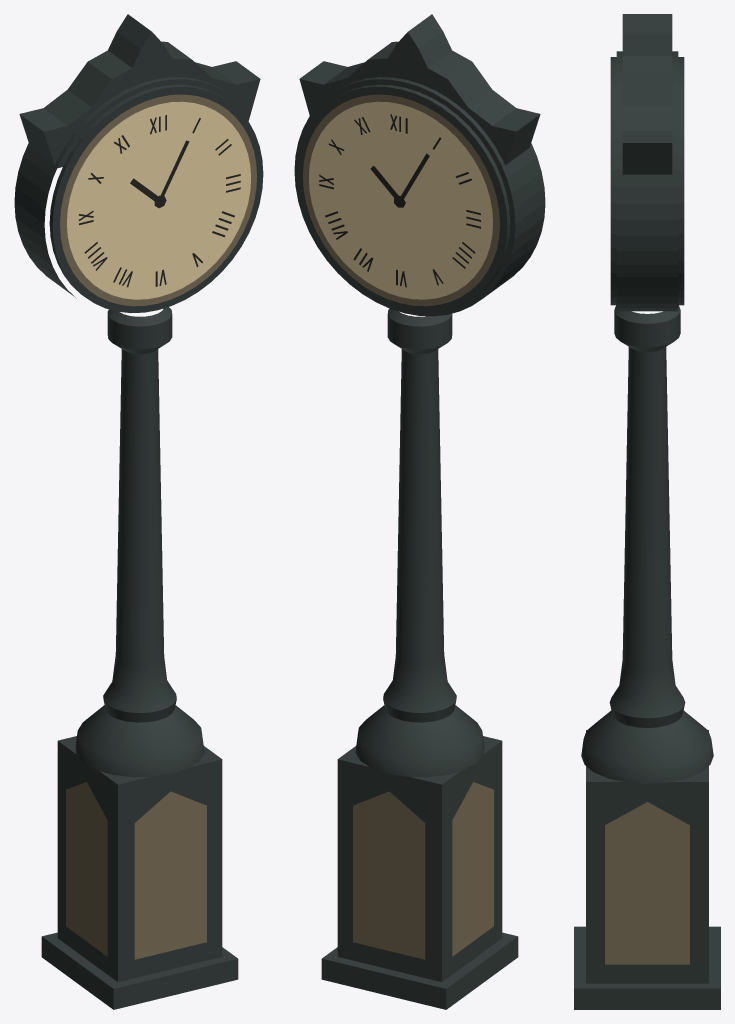
The model's file is dc-au-class-of-1992-clock.glb.
3 views of the same model, side by side, from view 1: azimuth 30°, elevation 25°; view 2: azimuth 150°, elevation 25°; view 3: azimuth 270°, elevation 25° (orthographic). The views are drawn at different scales.
Parts seen in each view (by area): view 1: Class of 1992 Clock; view 2: Class of 1992 Clock; view 3: Class of 1992 Clock.
Part boxes in pixels (x1,y1,x2,y2): Class of 1992 Clock: [14, 14, 263, 1009]; Class of 1992 Clock: [294, 14, 545, 1009]; Class of 1992 Clock: [574, 14, 720, 1009].
Size of the model in its own units: 1.1 by 4.5 by 0.62.
